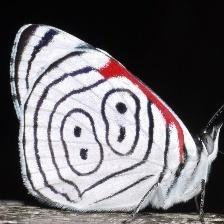butterfly: (10, 26, 224, 212)
